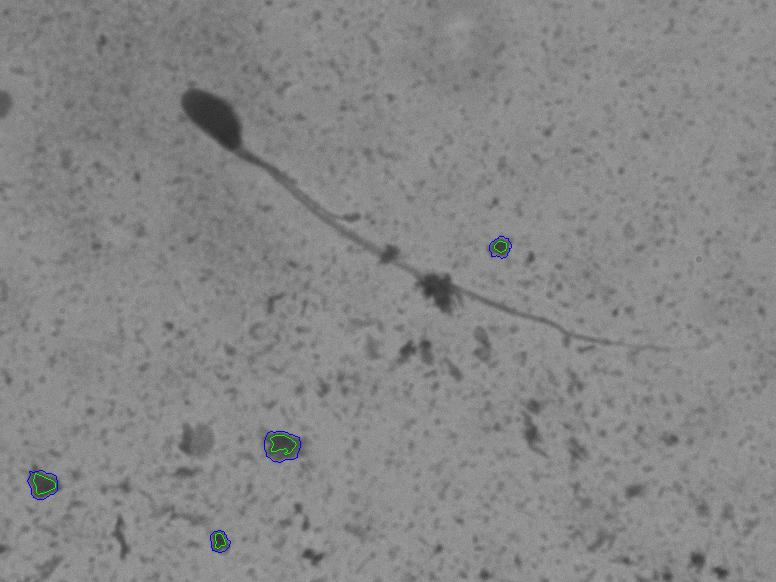Abnormal: (132, 55, 684, 380)
